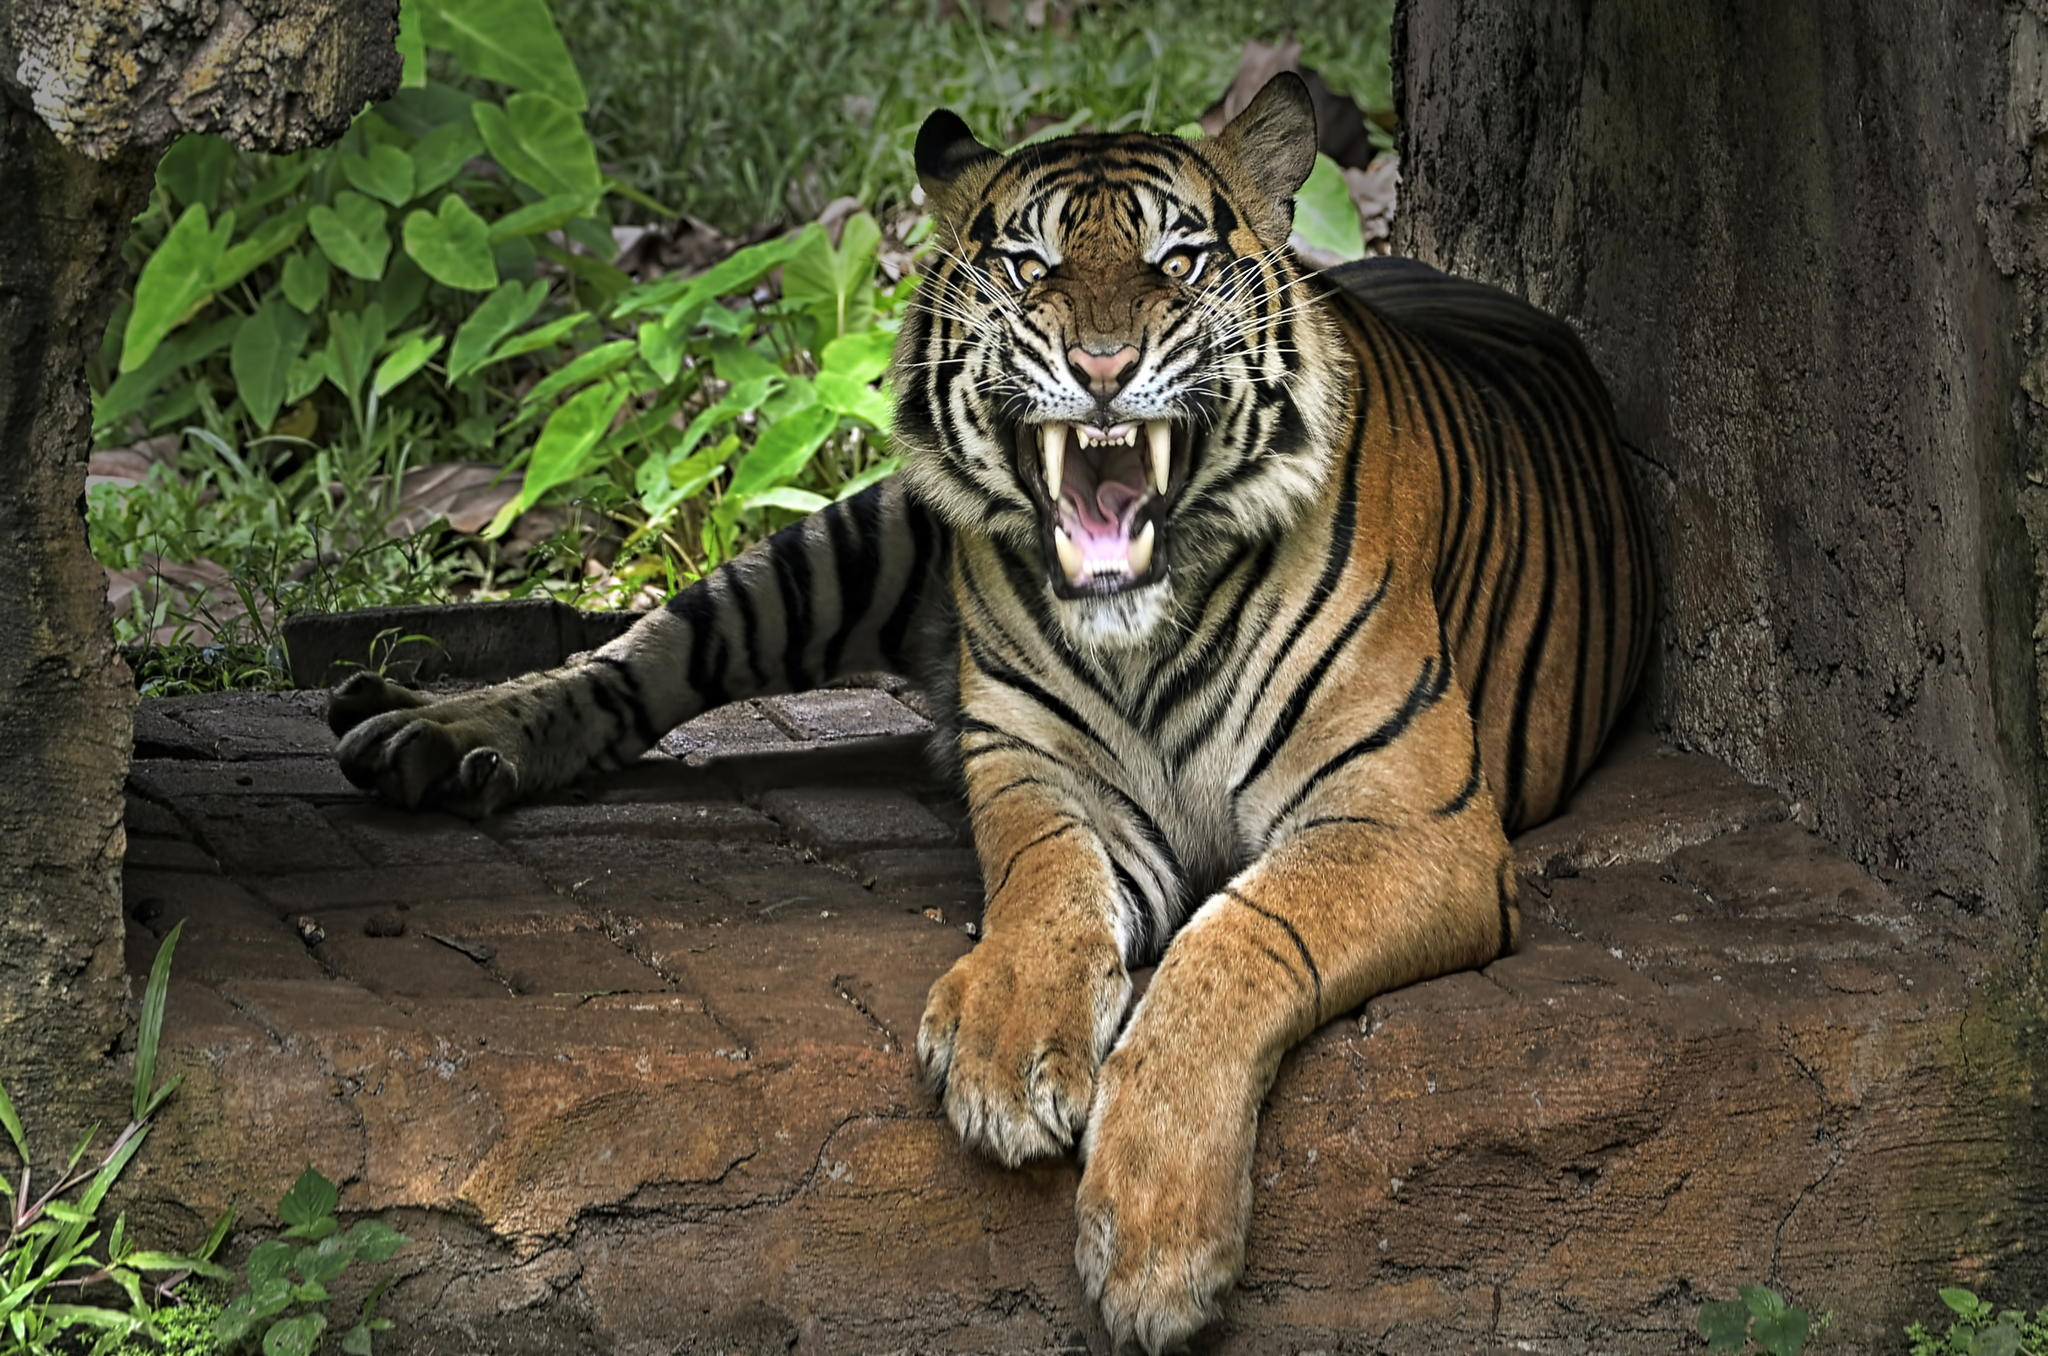tiger: (398, 104, 1658, 1221)
